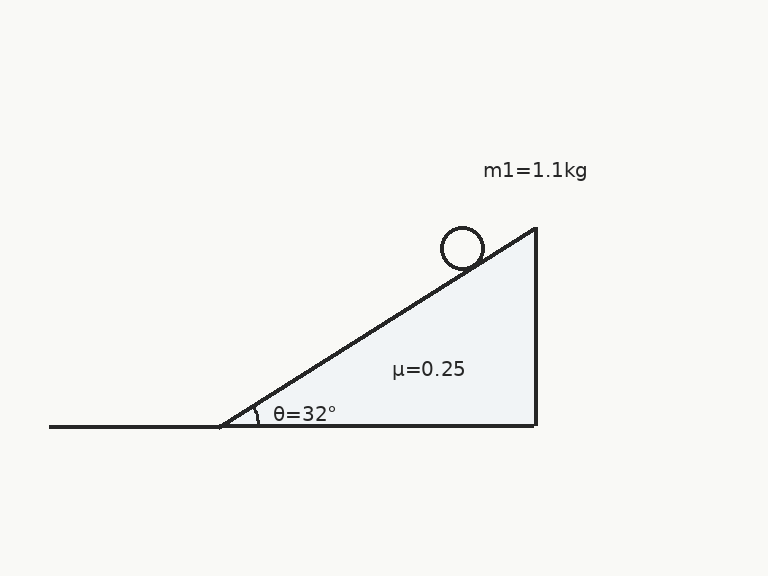ball: (438, 224, 486, 272)
ramp: (216, 226, 536, 428)
